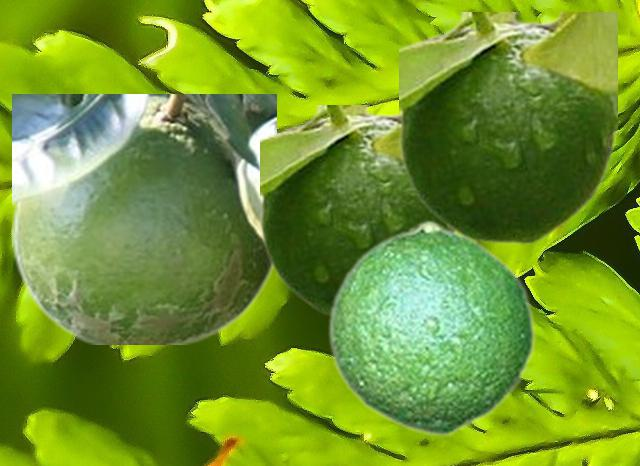dalandan: (12, 94, 275, 343), (399, 12, 616, 243), (326, 219, 535, 436), (260, 105, 438, 317)
